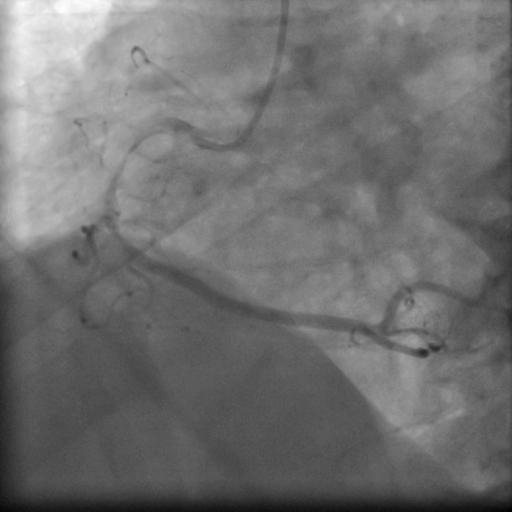Stenosis: (97, 137, 135, 247)
